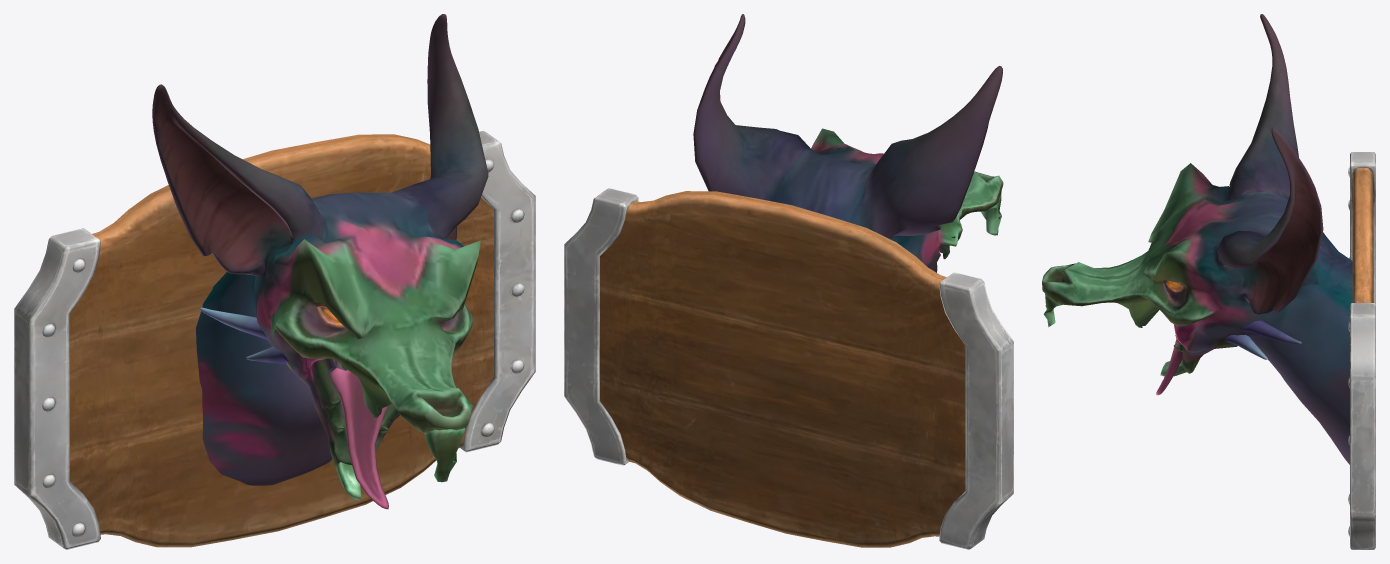
The picture shows the model from 3 angles, left to right: view 1: azimuth 30°, elevation 25°; view 2: azimuth 150°, elevation 25°; view 3: azimuth 270°, elevation 25°; orthographic projection. The views are drawn at different scales.
Visible parts, largest first — view 1: SM_Trophy_Plaque_ZombieRat_LOD0; view 2: SM_Trophy_Plaque_ZombieRat_LOD0; view 3: SM_Trophy_Plaque_ZombieRat_LOD0.
Part boxes in pixels (x1,y1,x2,y2): SM_Trophy_Plaque_ZombieRat_LOD0: (14,14,535,549); SM_Trophy_Plaque_ZombieRat_LOD0: (564,14,1013,549); SM_Trophy_Plaque_ZombieRat_LOD0: (1042,14,1375,549).
Size of the model in its own units: 0.6514 by 0.6584 by 0.4803.
2 materials, 2 textured.
